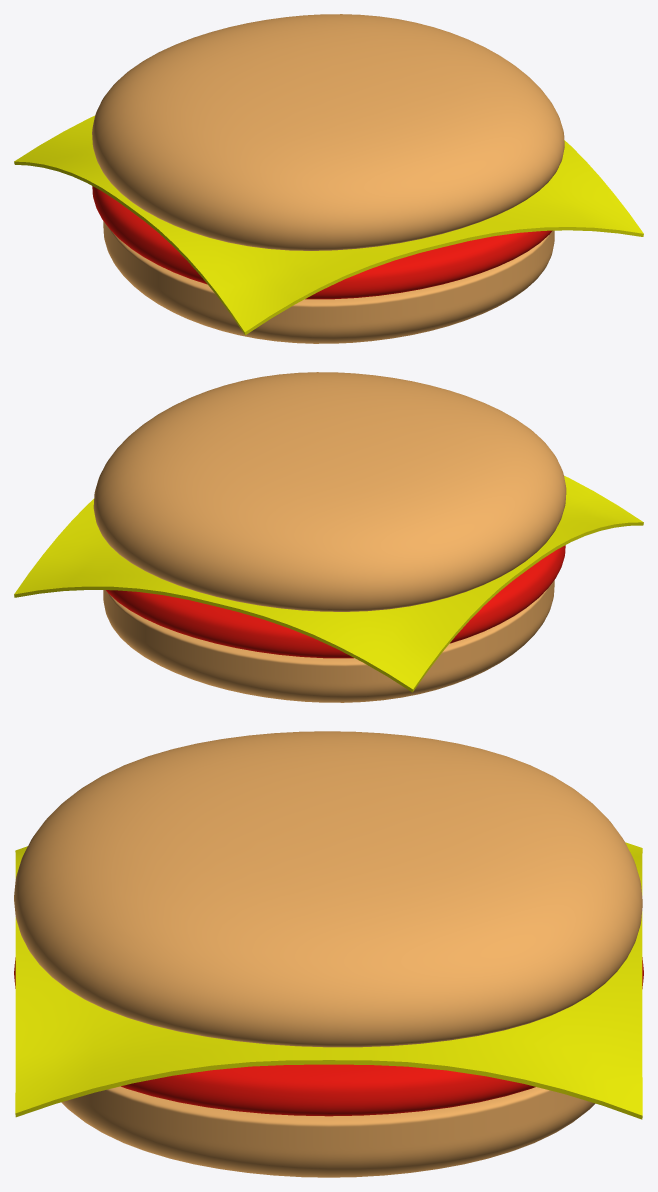
Rendered from hamburger.glb.
The picture shows the model from 3 angles, top to bottom: view 1: azimuth 30°, elevation 25°; view 2: azimuth 150°, elevation 25°; view 3: azimuth 270°, elevation 25°; orthographic projection. The views are drawn at different scales.
Visible parts, largest first — view 1: bun-top, cheese, bun-bottom, meat; view 2: bun-top, cheese, bun-bottom, meat; view 3: bun-top, cheese, bun-bottom, meat.
Part boxes in pixels (x1=…): bun-top: x1=92, y1=14, x2=564, y2=250; cheese: x1=14, y1=115, x2=643, y2=335; bun-bottom: x1=103, y1=221, x2=554, y2=343; meat: x1=92, y1=186, x2=552, y2=299; bun-top: x1=93, y1=372, x2=566, y2=611; cheese: x1=14, y1=475, x2=643, y2=692; bun-bottom: x1=103, y1=580, x2=554, y2=702; meat: x1=106, y1=545, x2=565, y2=658; bun-top: x1=14, y1=731, x2=642, y2=1047; cheese: x1=15, y1=842, x2=642, y2=1119; bun-bottom: x1=61, y1=1086, x2=595, y2=1177; meat: x1=14, y1=957, x2=643, y2=1116.
Bounding box in the file's own units: 10.02 × 4.87 × 10.01.
